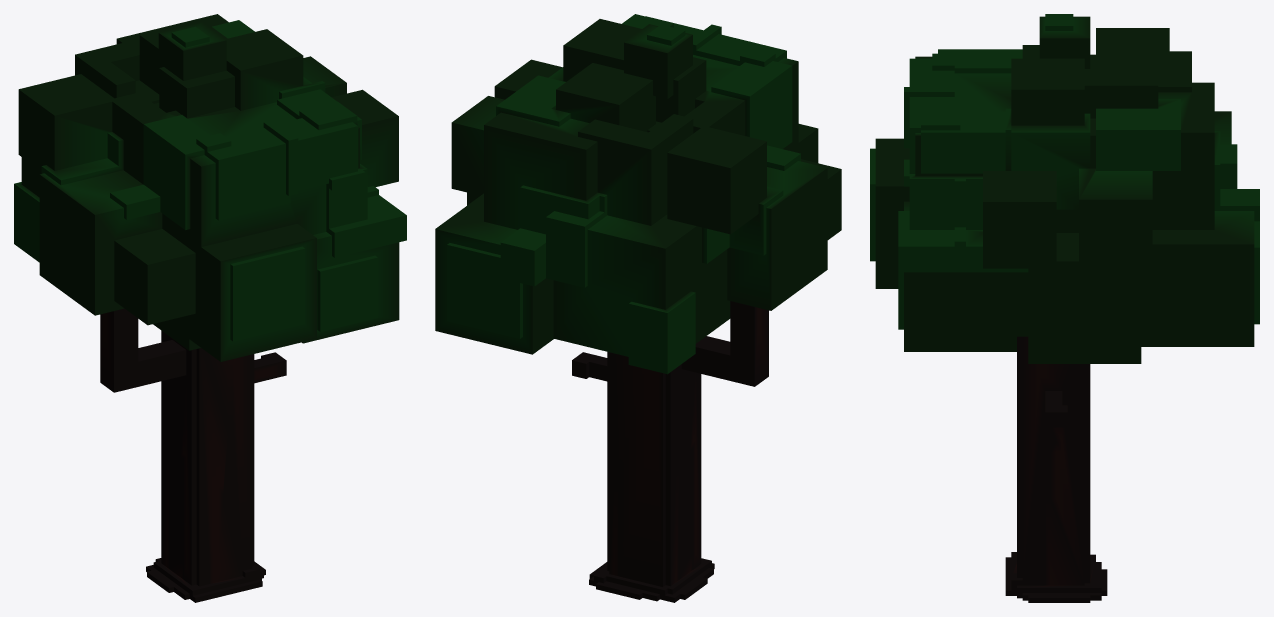
Rendered from Tree_23.fbx.
3 renders of one model, left to right at view 1: azimuth 30°, elevation 25°; view 2: azimuth 150°, elevation 25°; view 3: azimuth 270°, elevation 25°, orthographic.
Visible parts, largest first — view 1: Tree_23; view 2: Tree_23; view 3: Tree_23.
Part boxes in pixels (x1,y1,x2,y2): Tree_23: (14, 14, 406, 602); Tree_23: (435, 14, 841, 602); Tree_23: (870, 14, 1259, 602).
Size of the model in its own units: 620 by 1080 by 690.
